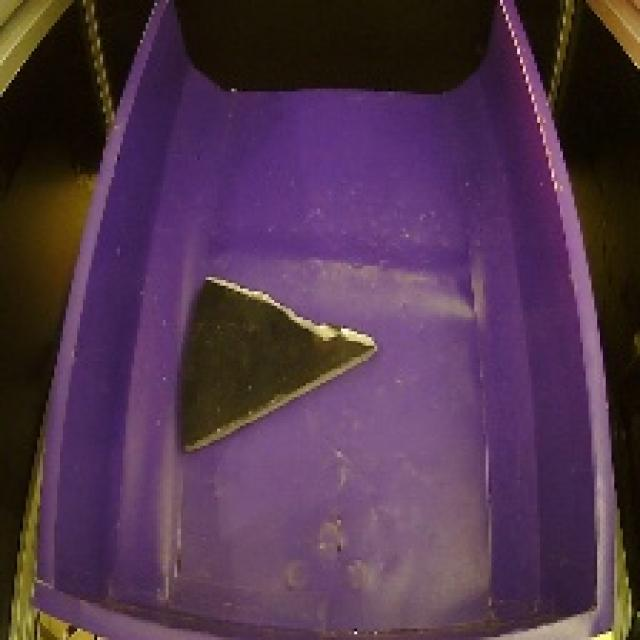china: (166, 254, 389, 463)
